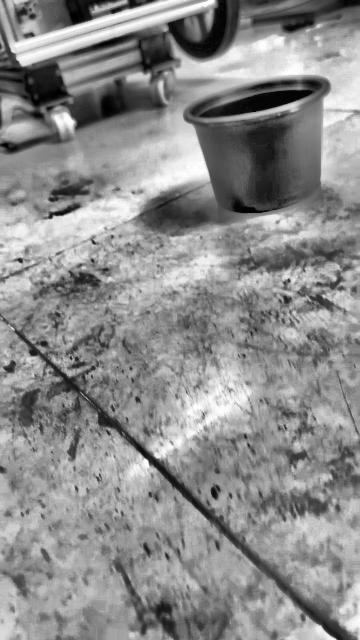pot: (185, 75, 329, 212)
